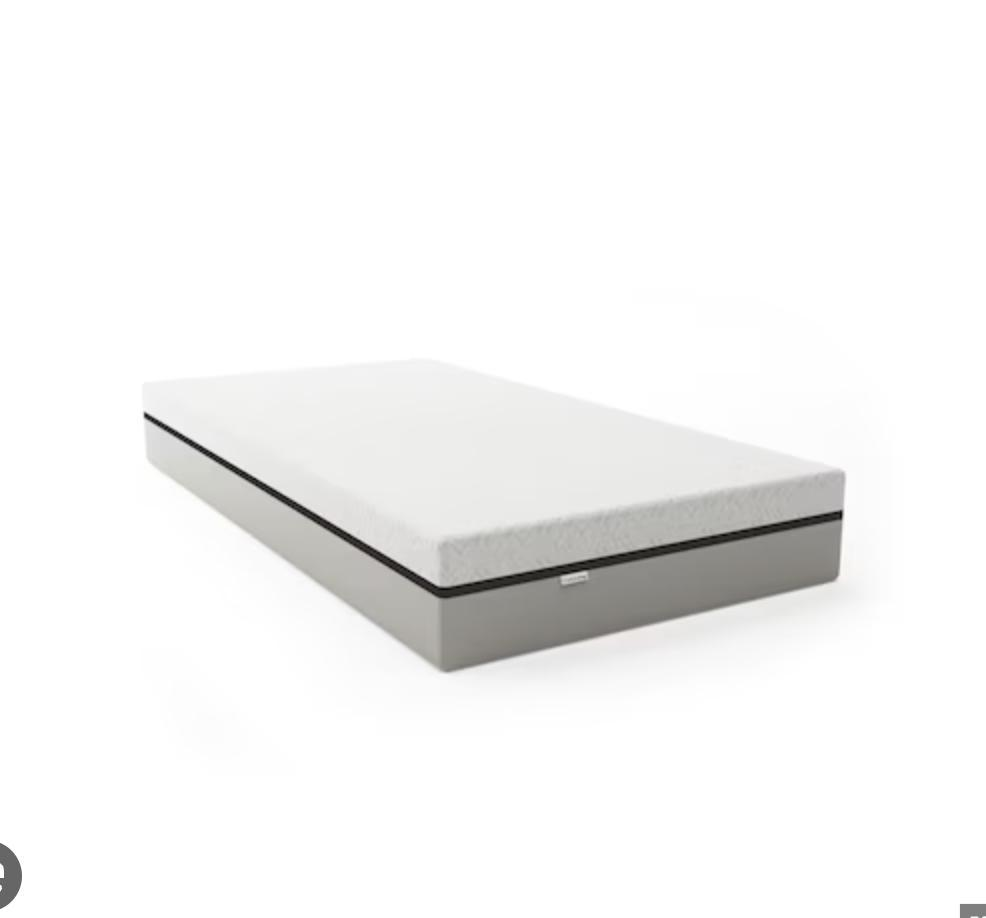Bed-Mattress: (130, 348, 855, 690)
